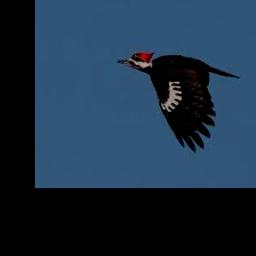Woodpecker: (119, 52, 240, 151)
